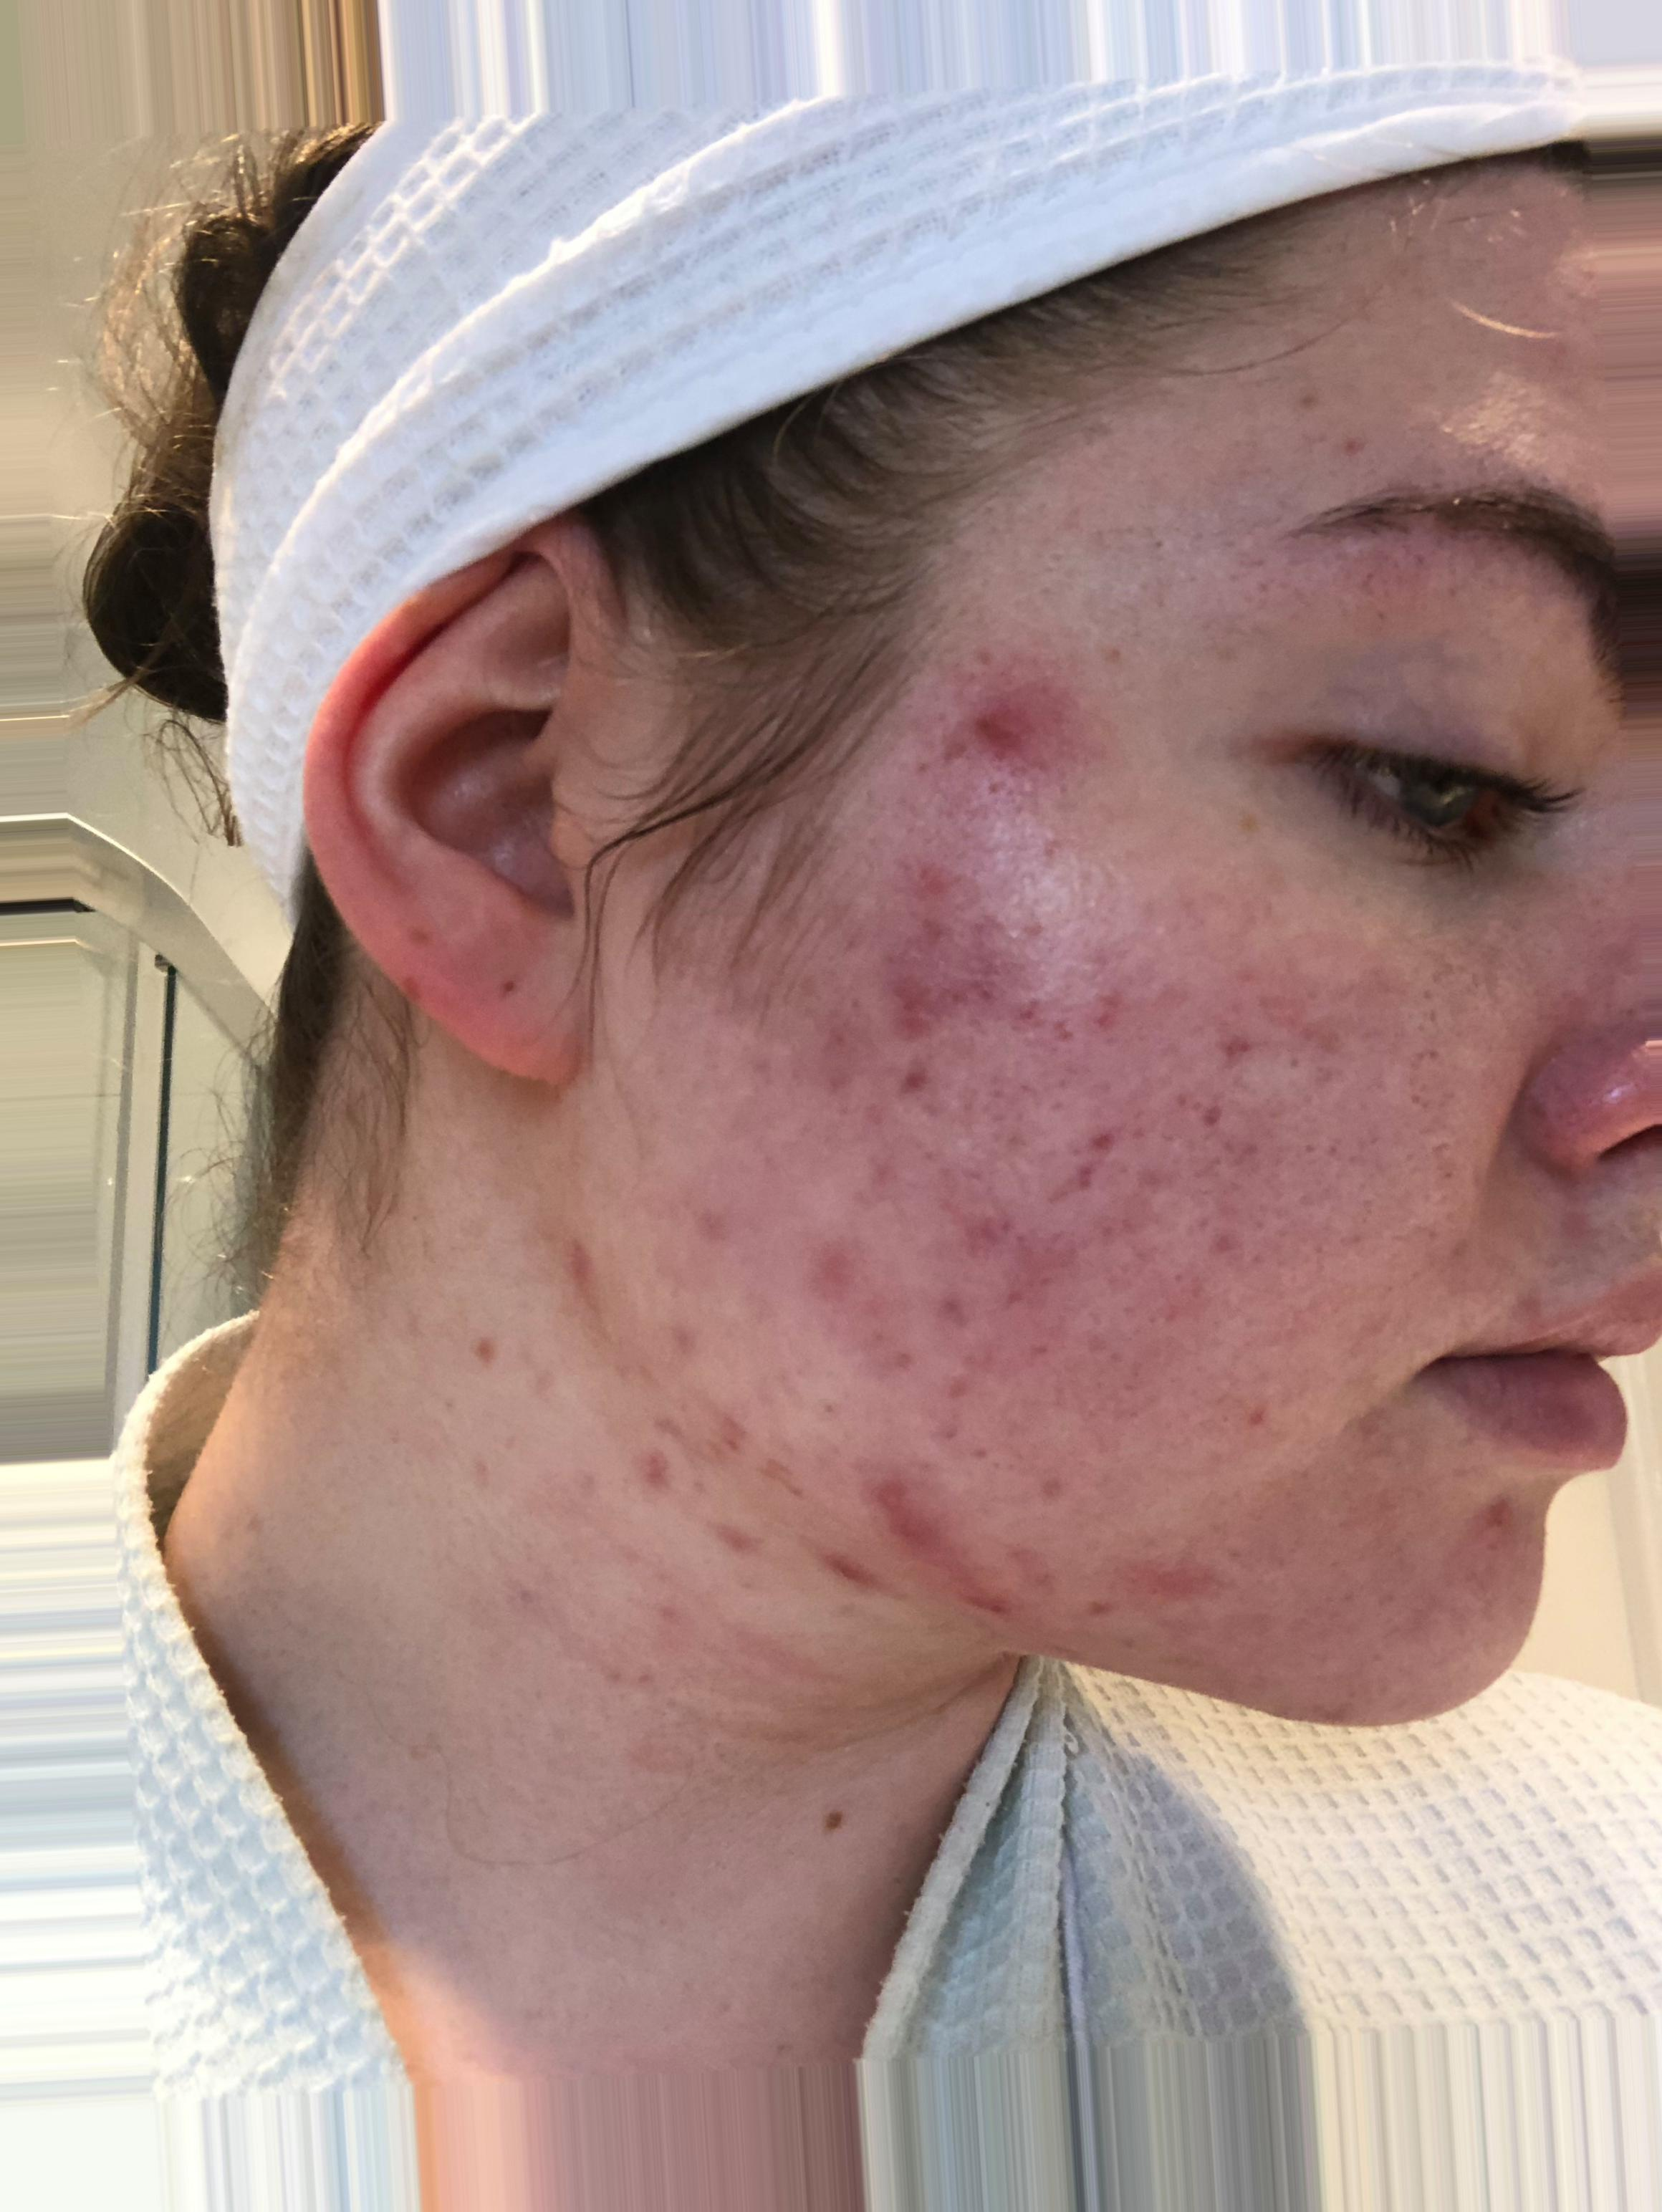Acne: (862, 1377, 1086, 1622), (913, 655, 1152, 835), (869, 883, 1037, 1093), (962, 1170, 1157, 1336)
